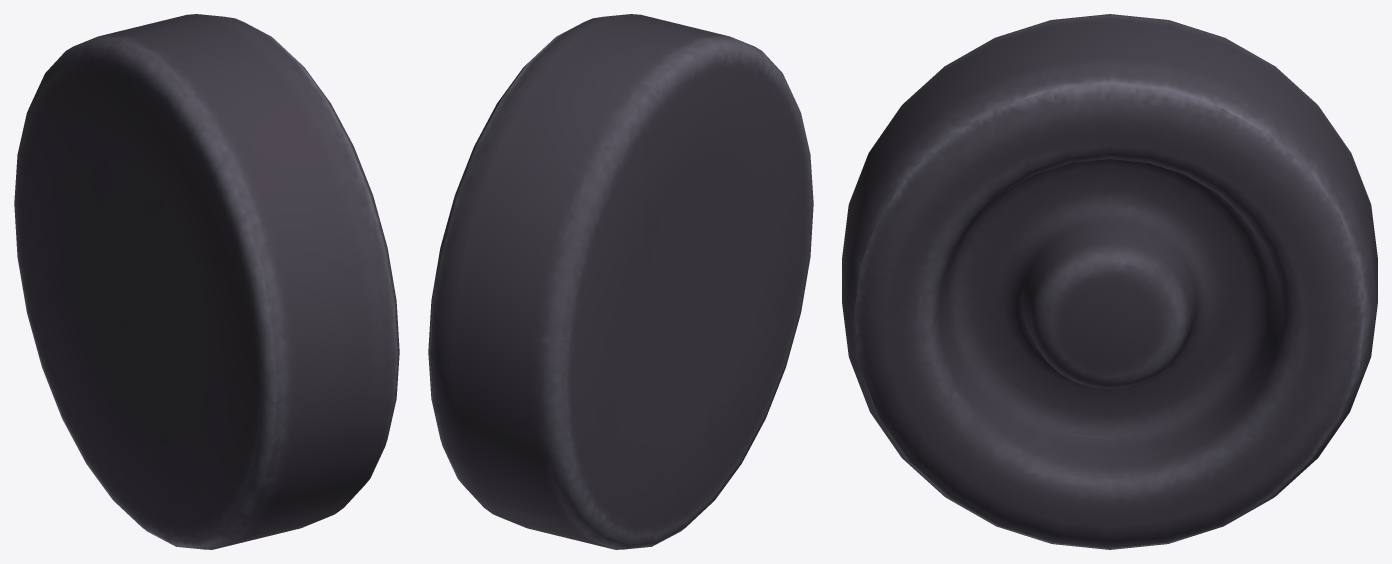
File: wheel_small.glb
3 renders of one model, left to right at view 1: azimuth 30°, elevation 25°; view 2: azimuth 150°, elevation 25°; view 3: azimuth 270°, elevation 25°, orthographic.
Visible parts, largest first — view 1: wheel_small; view 2: wheel_small; view 3: wheel_small.
Boxes of the visible parts, box(x1,y1,x2,y2) form: wheel_small: box(14, 14, 399, 549); wheel_small: box(428, 14, 813, 549); wheel_small: box(842, 14, 1377, 549).
Size of the model in its own units: 0.1243 by 0.38 by 0.38.
Materials: 1 (1 with a texture image).
